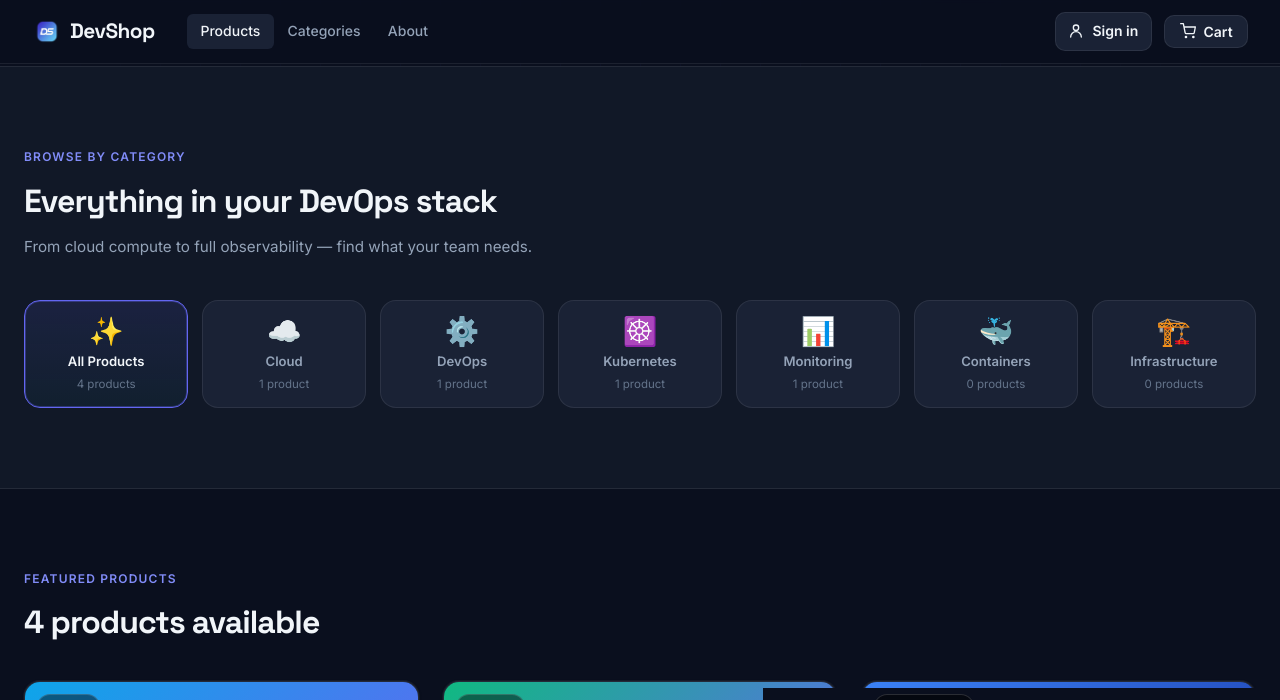
Category filtering and navigation › filters products by category using the current backend data
(page scrolled)
Click the text "Cloud" below "Everything in your DevOps stack".
click(284, 361)  # box [266,353,303,369]
(page scrolled)
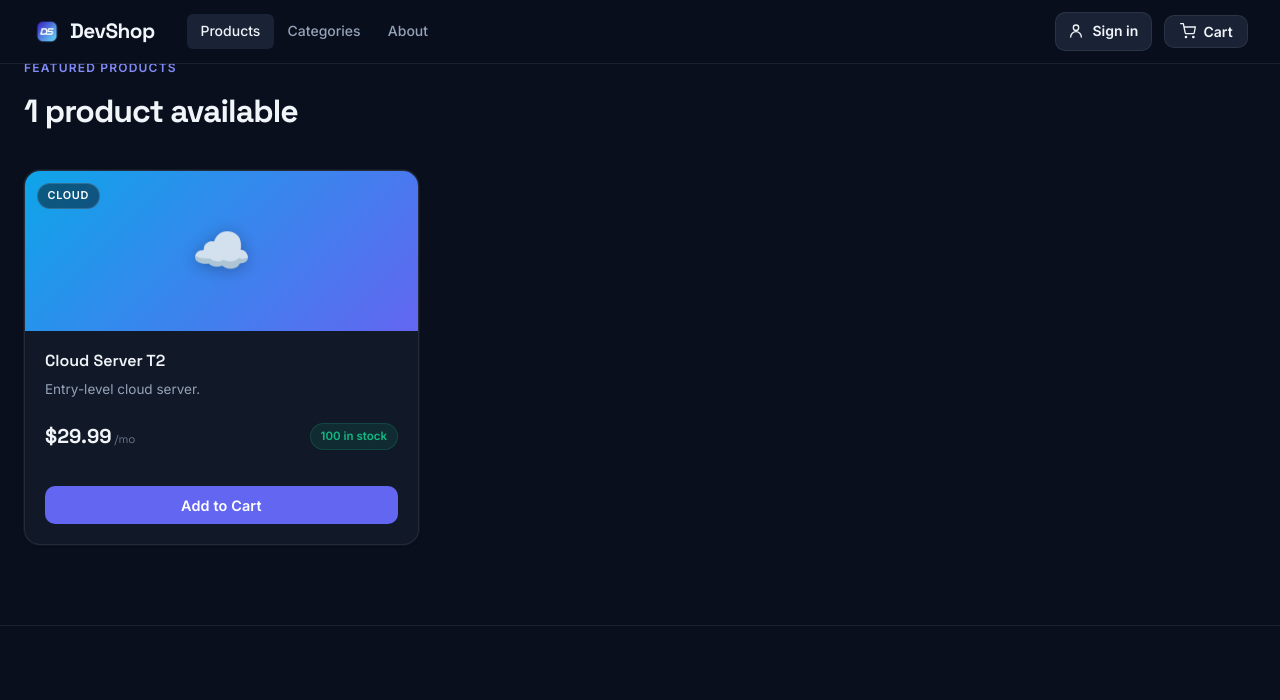
Expected: the heading "Cloud Server T2" is shown, [45,350,165,370]
Now the heading "1 product available" is shown, box [24,86,298,138]
